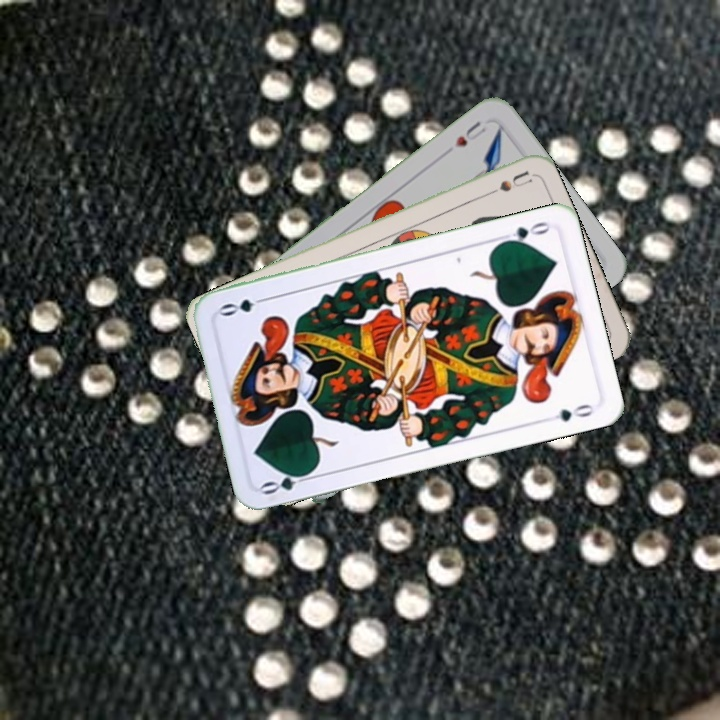GO: (257, 467, 317, 498), (496, 217, 553, 247)
HU: (450, 117, 489, 150)
SU: (476, 167, 533, 202)
